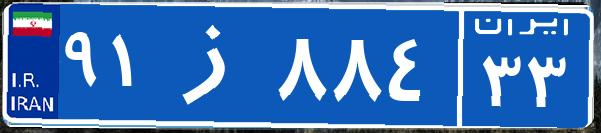1: (110, 28, 158, 105)
3: (475, 38, 525, 113), (525, 38, 570, 115)
4: (385, 28, 445, 110)
8: (273, 28, 330, 110), (330, 28, 385, 110)
9: (57, 26, 110, 107)
ز: (158, 15, 273, 115)
